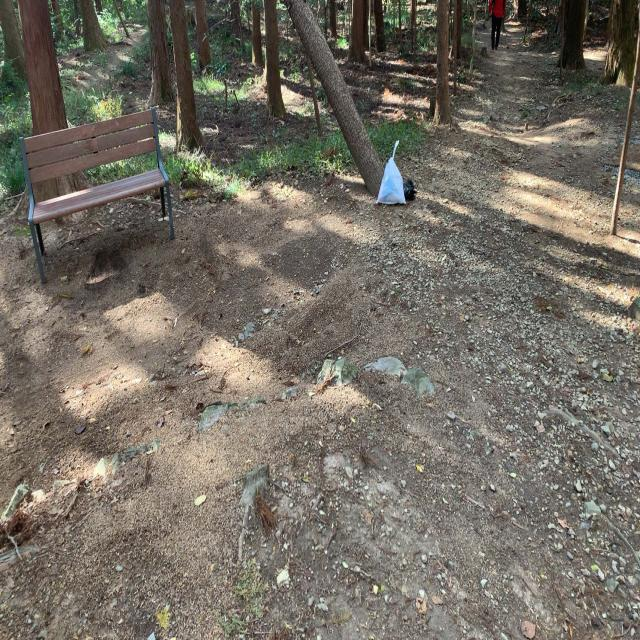garbage bag: (374, 137, 408, 208), (402, 173, 418, 205)
